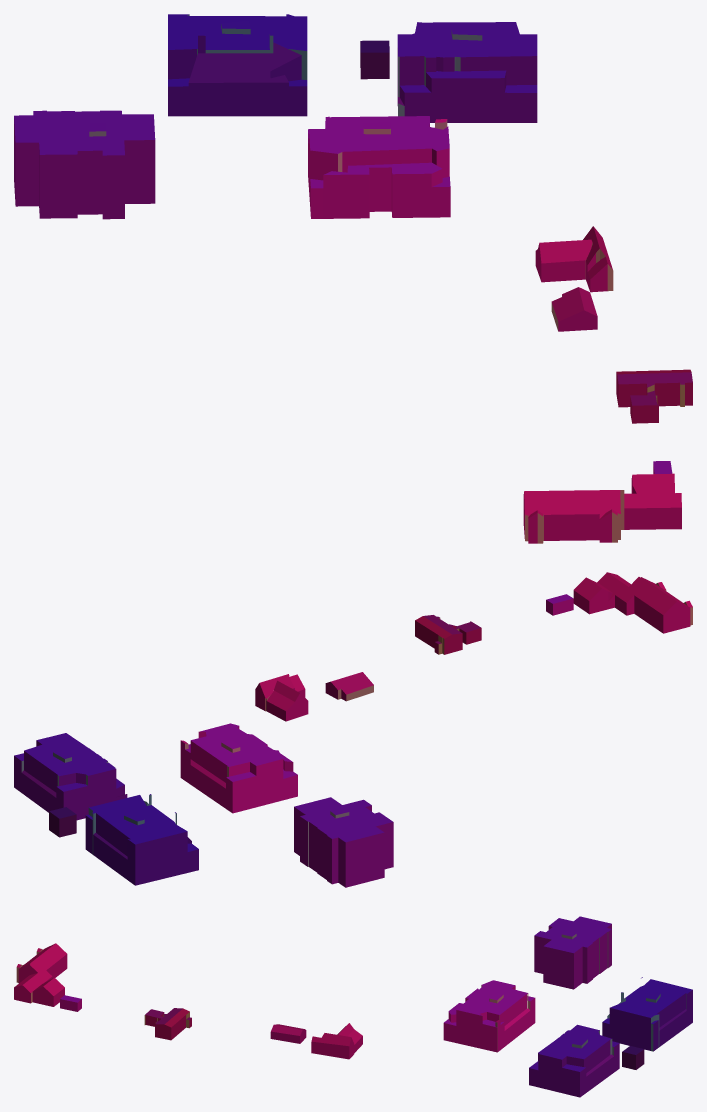
File: buildings_3_11.glb
3 renders of one model, top to bottom at view 1: azimuth 30°, elevation 25°; view 2: azimuth 150°, elevation 25°; view 3: azimuth 270°, elevation 25°, orthographic. The views are drawn at different scales.
Visible parts, largest first — view 1: buildings_3_11; view 2: buildings_3_11; view 3: buildings_3_11.
Boxes of the visible parts, left/top/right/bottom form: buildings_3_11: left=14, top=14, right=692, bottom=543; buildings_3_11: left=14, top=572, right=692, bottom=887; buildings_3_11: left=14, top=916, right=692, bottom=1097.
Bounding box in the file's own units: 103 × 13.78 × 204.
